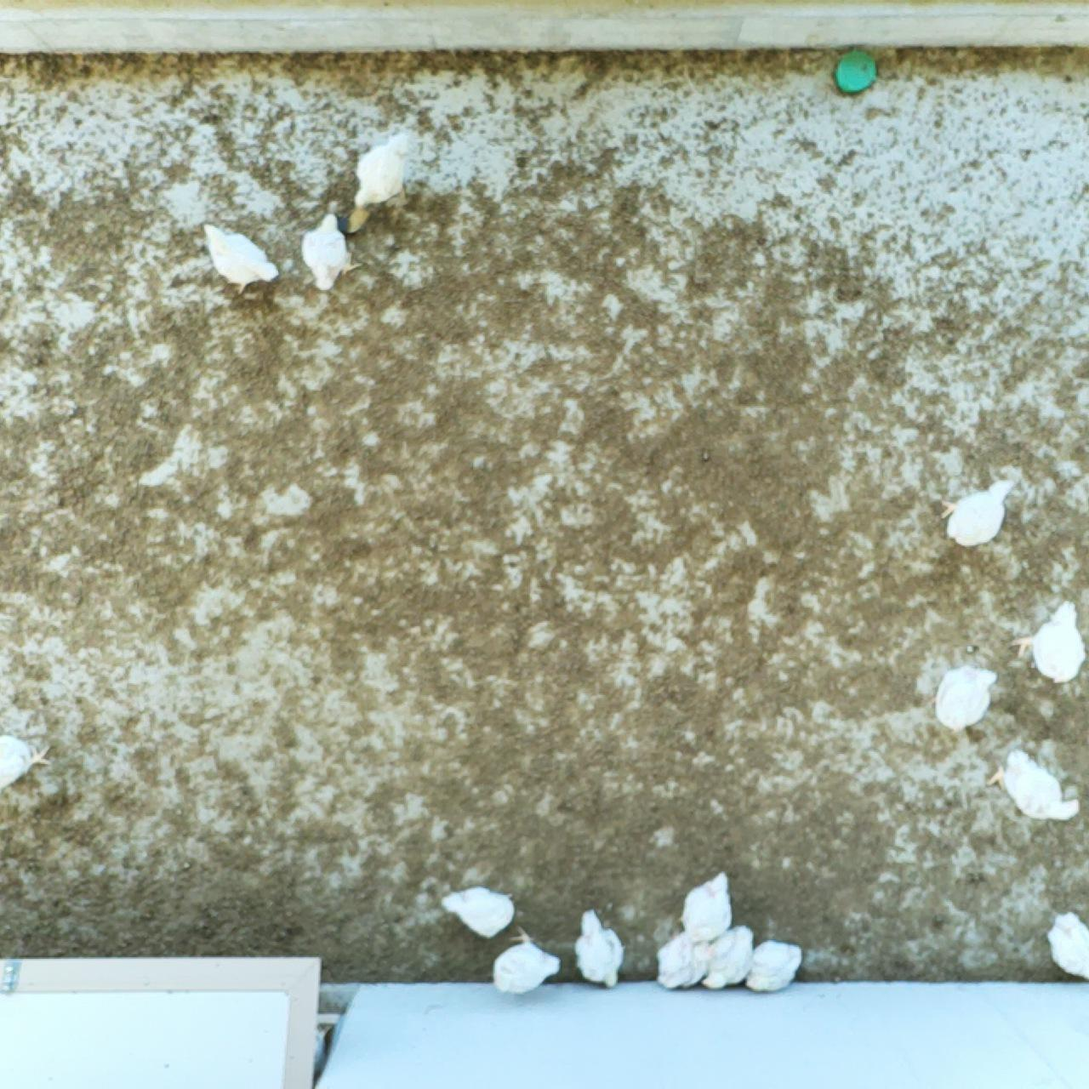chicken: (981, 742, 1084, 831), (1006, 594, 1089, 689), (925, 659, 1002, 738), (939, 474, 1018, 550), (352, 129, 423, 213), (204, 222, 281, 296), (299, 211, 364, 296), (492, 921, 564, 996), (676, 866, 738, 948), (439, 882, 518, 942), (572, 904, 627, 990), (700, 922, 758, 993), (744, 936, 807, 998), (1041, 907, 1089, 984), (653, 928, 711, 991), (0, 733, 55, 798)
